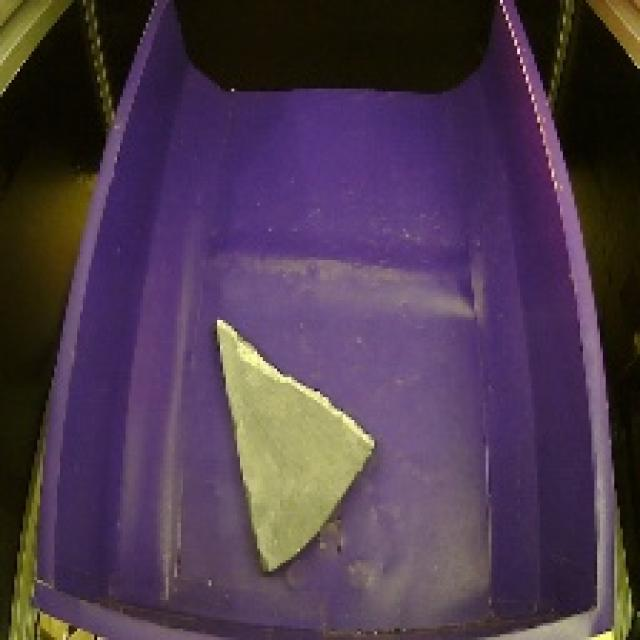china: (199, 310, 392, 582)
